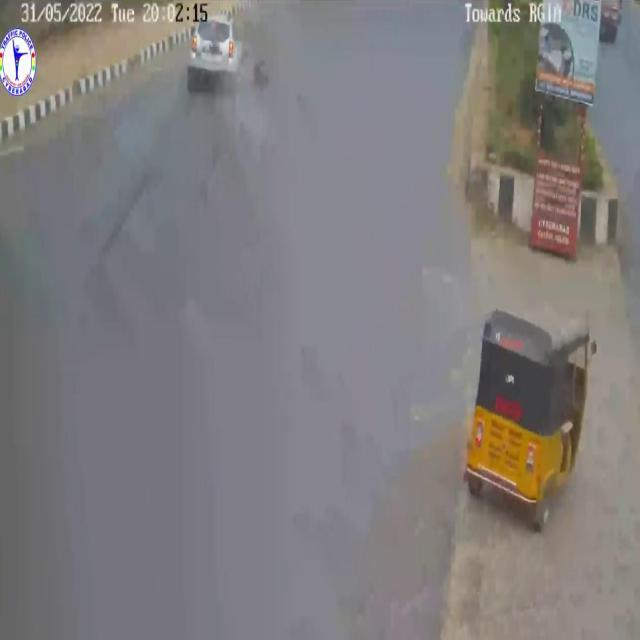accident: (178, 13, 273, 113)
